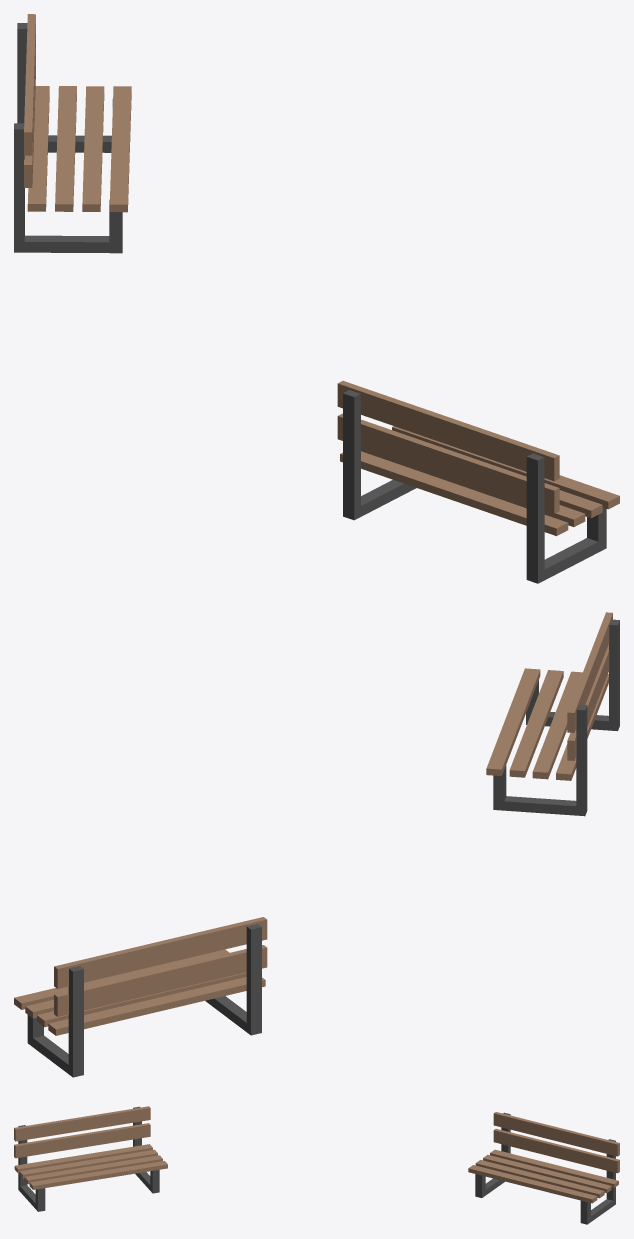
The model's file is Bench.fbx.
3 views of the same model, one above another, from view 1: azimuth 30°, elevation 25°; view 2: azimuth 150°, elevation 25°; view 3: azimuth 270°, elevation 25° (orthographic). The views are drawn at different scales.
Visible parts, largest first — view 1: Cube.069; view 2: Cube.069; view 3: Cube.069.
Part boxes in pixels (x1,y1,x2,y2): Cube.069: [14, 14, 619, 583]; Cube.069: [14, 612, 619, 1077]; Cube.069: [14, 1106, 619, 1224].
Size of the model in its own units: 39.26 by 20.78 by 176.
